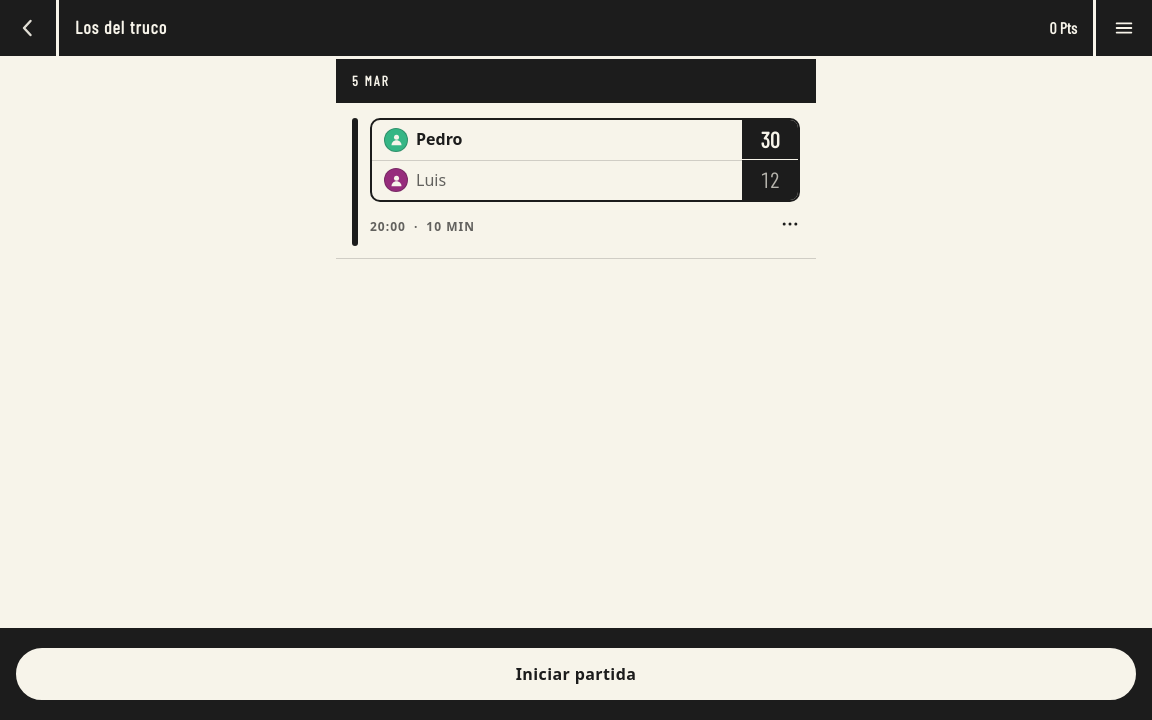
Scenario: cancelar y restaurar partidas › el menú de una partida enviada ofrece ver su historial
The image size is (1152, 720).
Click the button named "Opciones de la partida": [790, 224] box 768,202 -> 812,246
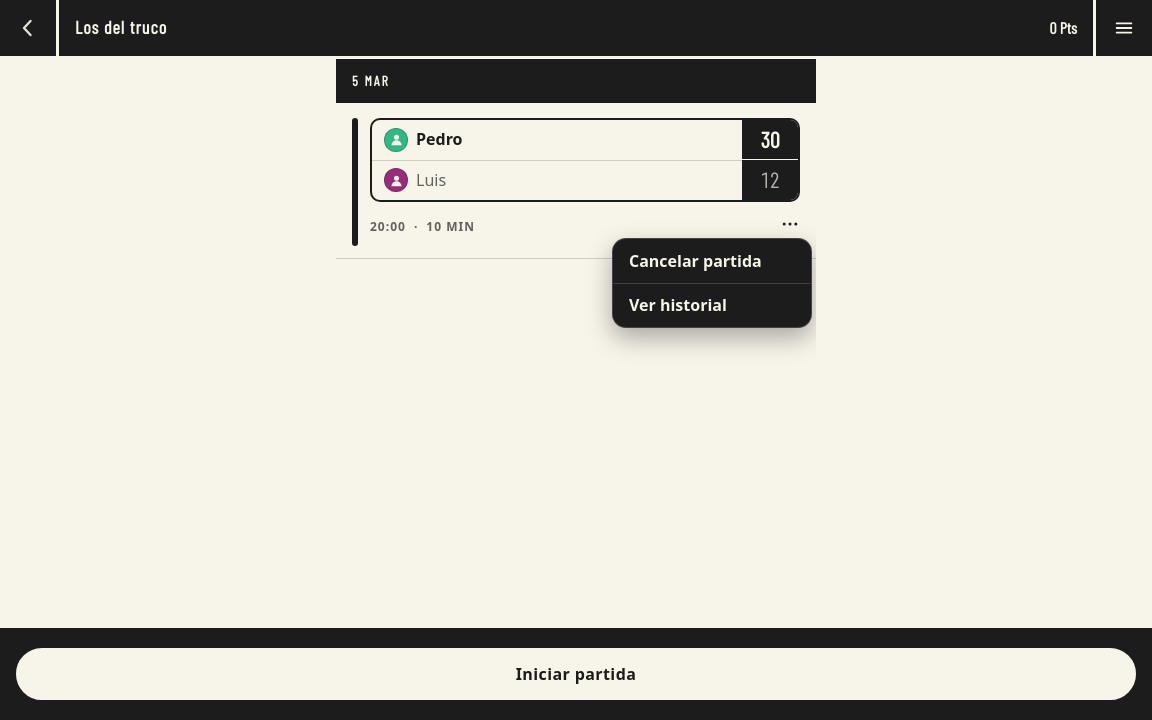
Click the menu item "Ver historial": [712, 305] box 613,283 -> 811,327
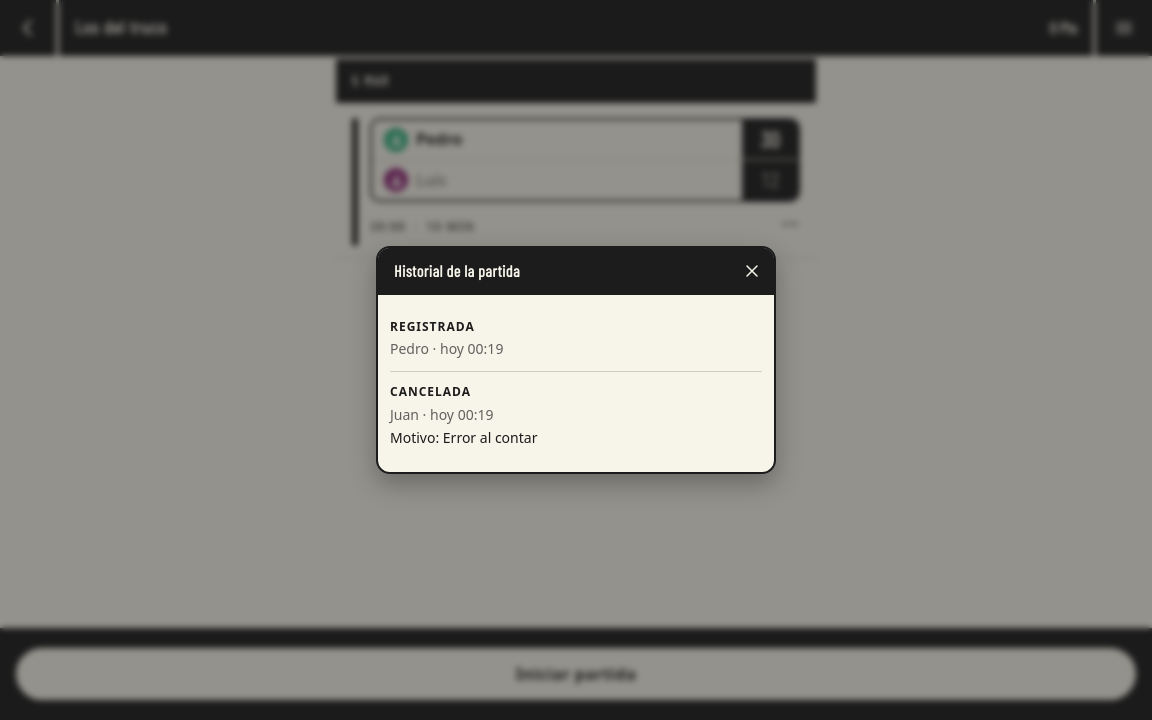
Expected: the text "Registrada" is shown, 390,318 -> 475,334
Expected: the text "Cancelada" is shown, 390,383 -> 471,400
Expected: the text "Motivo: Error al contar" is shown, 390,428 -> 537,447
